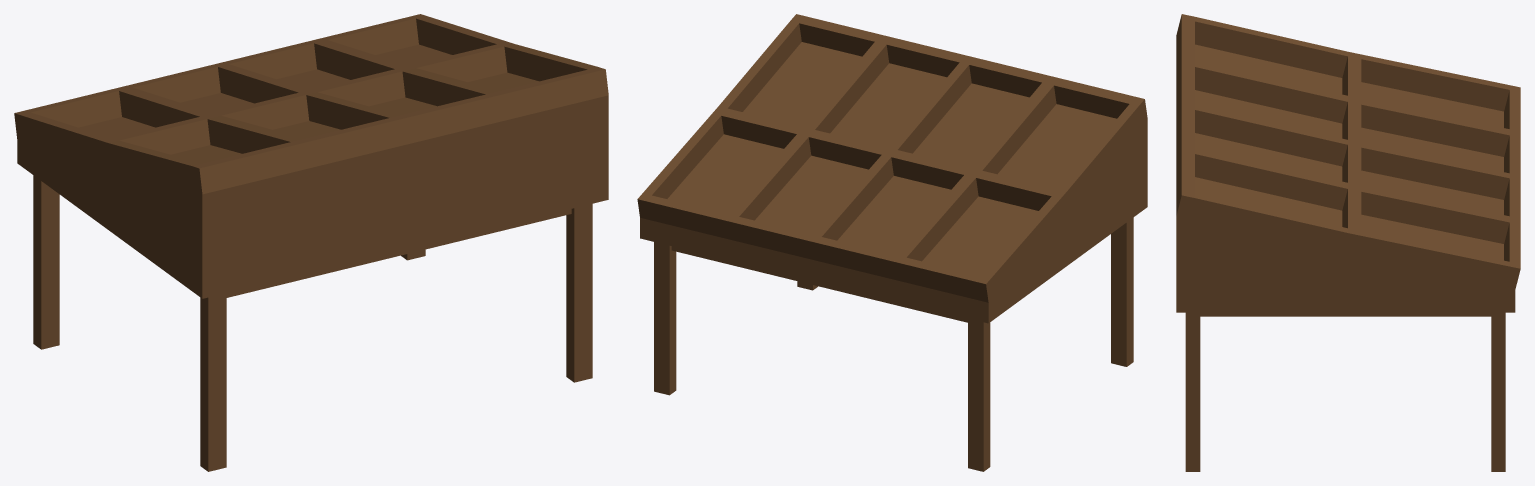
File: empty.fbx
The picture shows the model from 3 angles, left to right: view 1: azimuth 30°, elevation 25°; view 2: azimuth 150°, elevation 25°; view 3: azimuth 270°, elevation 25°; orthographic projection. The views are drawn at different scales.
Parts seen in each view (by area): view 1: Cube; view 2: Cube; view 3: Cube.
Boxes of the visible parts, box(x1,y1,x2,y2) form: Cube: box(14, 14, 608, 471); Cube: box(637, 14, 1147, 471); Cube: box(1176, 14, 1520, 471).
Size of the model in its own units: 527 by 382 by 423.
